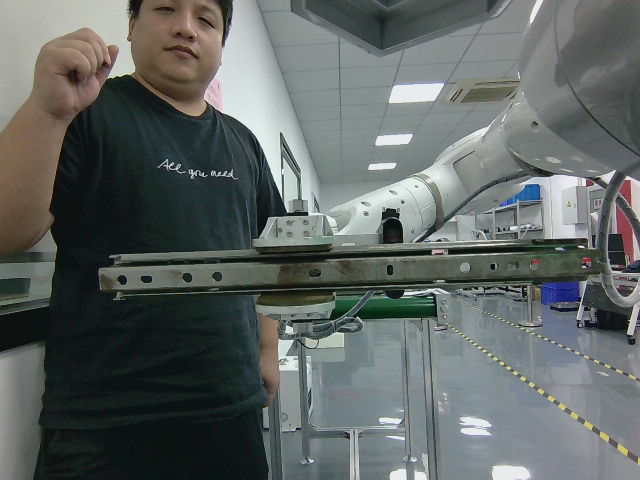right: (97, 236, 601, 300)
